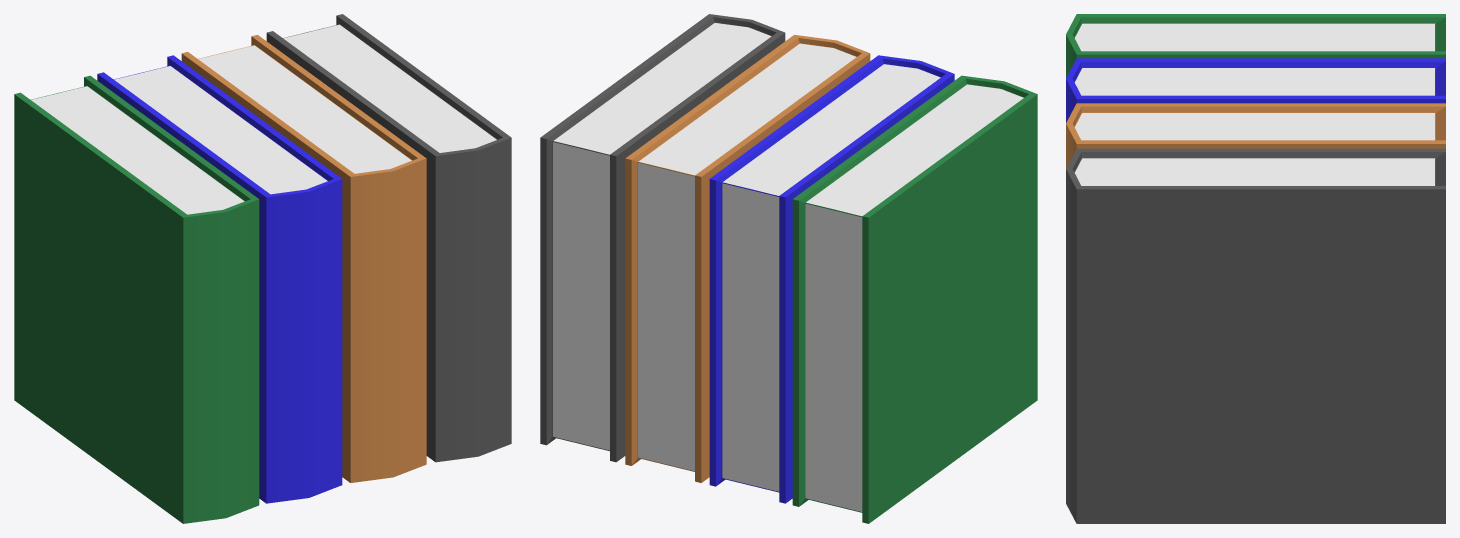
The model's file is libros.fbx.
3 views of the same model, side by side, from view 1: azimuth 30°, elevation 25°; view 2: azimuth 150°, elevation 25°; view 3: azimuth 270°, elevation 25° (orthographic). The views are drawn at different scales.
Visible parts, largest first — view 1: book_4; view 2: book_4; view 3: book_4.
Part boxes in pixels (left/top/right/bottom): book_4: left=14, top=14, right=511, bottom=523; book_4: left=540, top=14, right=1037, bottom=523; book_4: left=1066, top=14, right=1445, bottom=523.
Bounding box in the file's own units: 29.22 × 26.02 × 26.77.
